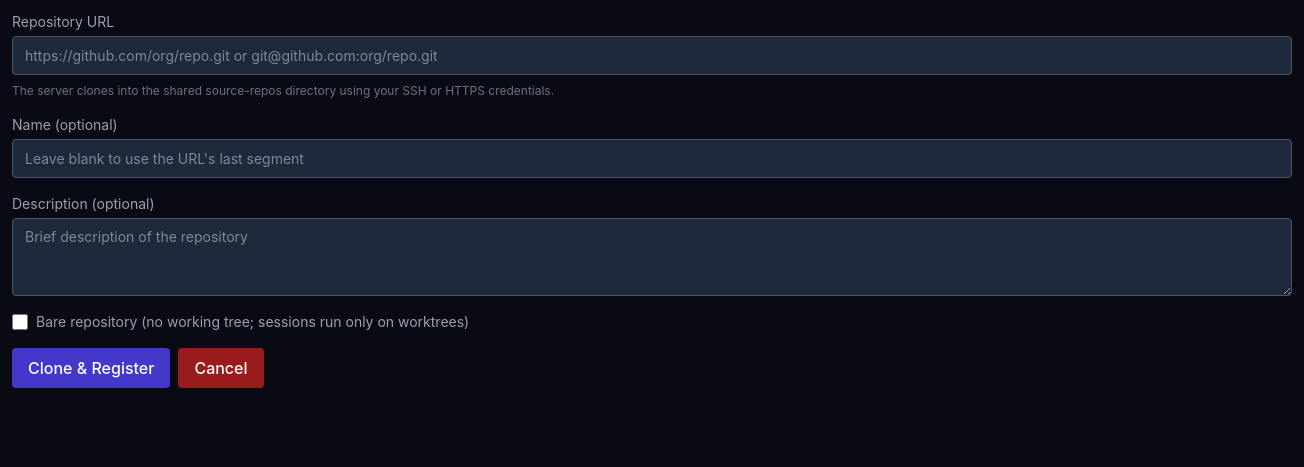
Test case: CloneFromUrlForm › submit + failure › renders the raw error message verbatim for the unknown code
Type "https://example.com/foo.git" into the field with placeholder "https://github.com" at [652, 56], box x1=12 y1=36 x2=1292 y2=75
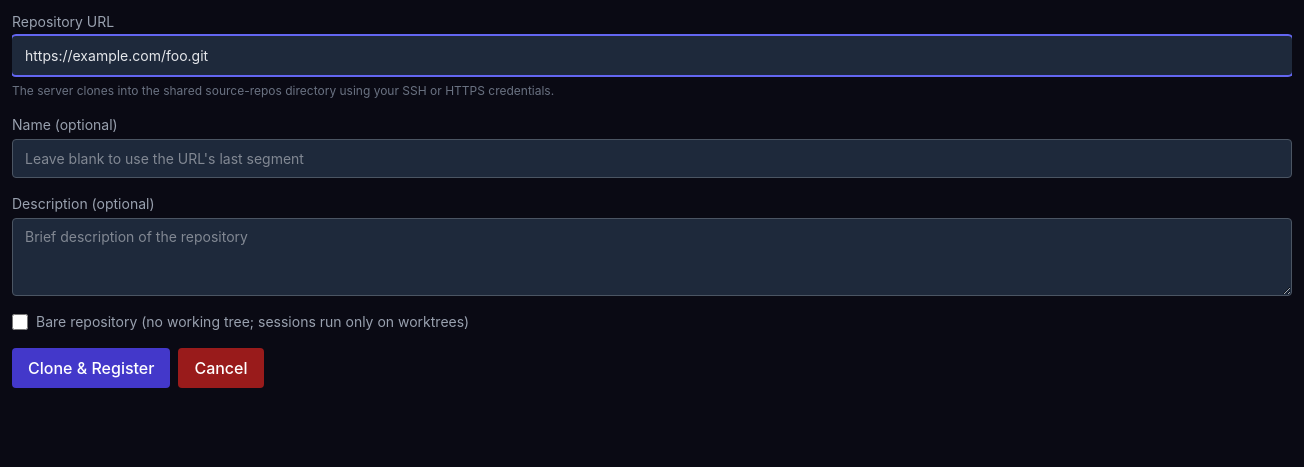
Click the button "Clone & Register" at [91, 368], box x1=12 y1=348 x2=170 y2=388
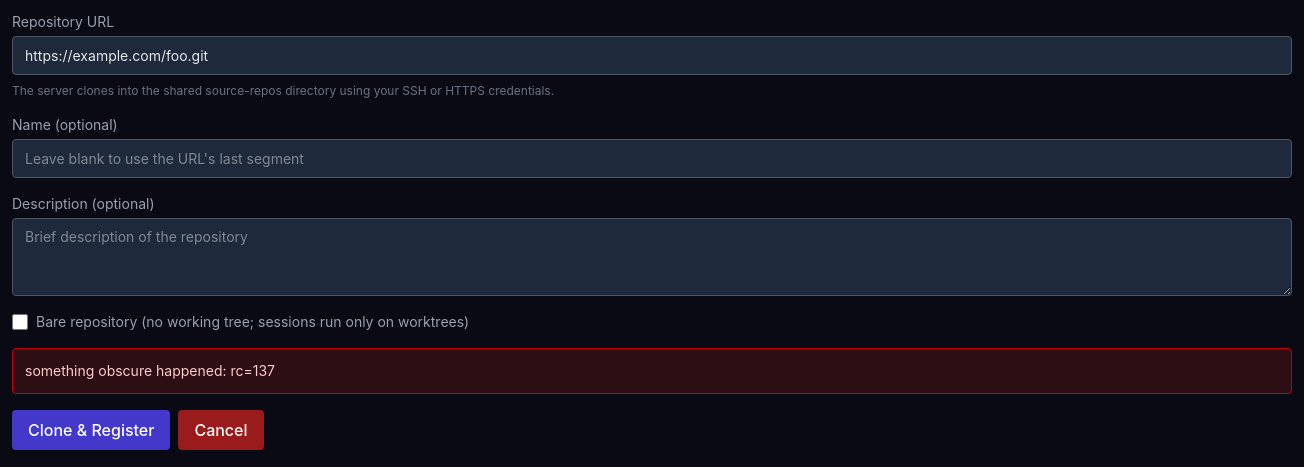
Now the text "something obscure happened: rc=137" is shown, box x1=25 y1=362 x2=275 y2=379
